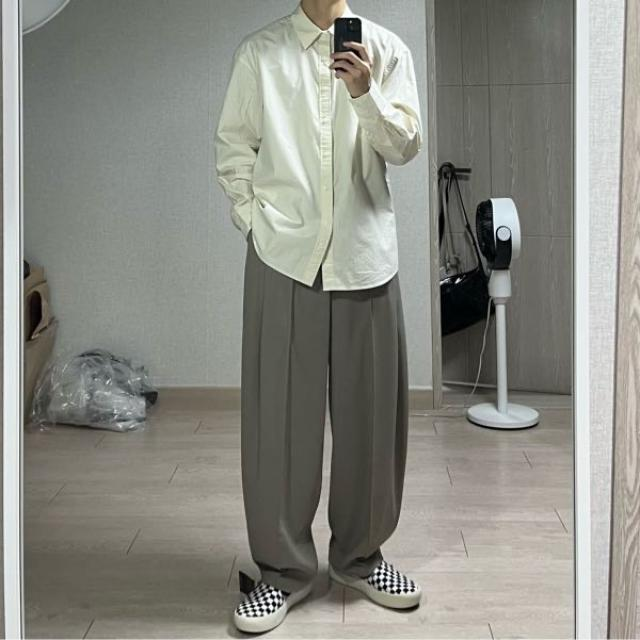shirt: (221, 7, 428, 292)
slacks: (245, 238, 414, 590)
